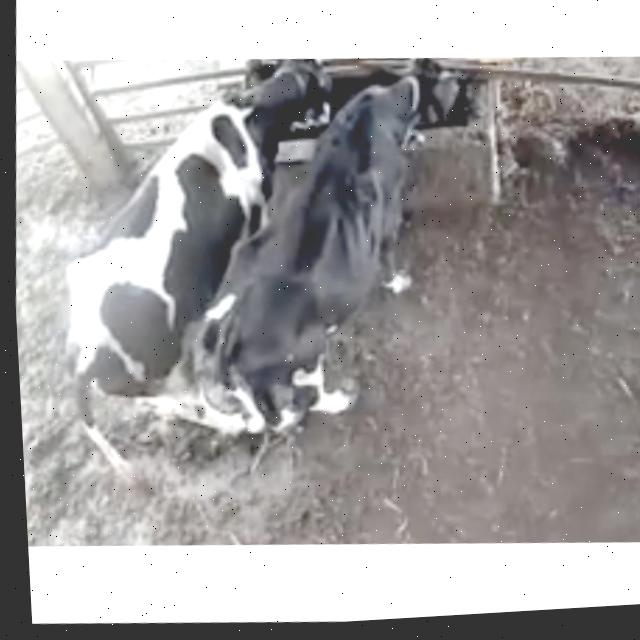drink: (177, 49, 344, 182), (322, 48, 487, 179)
